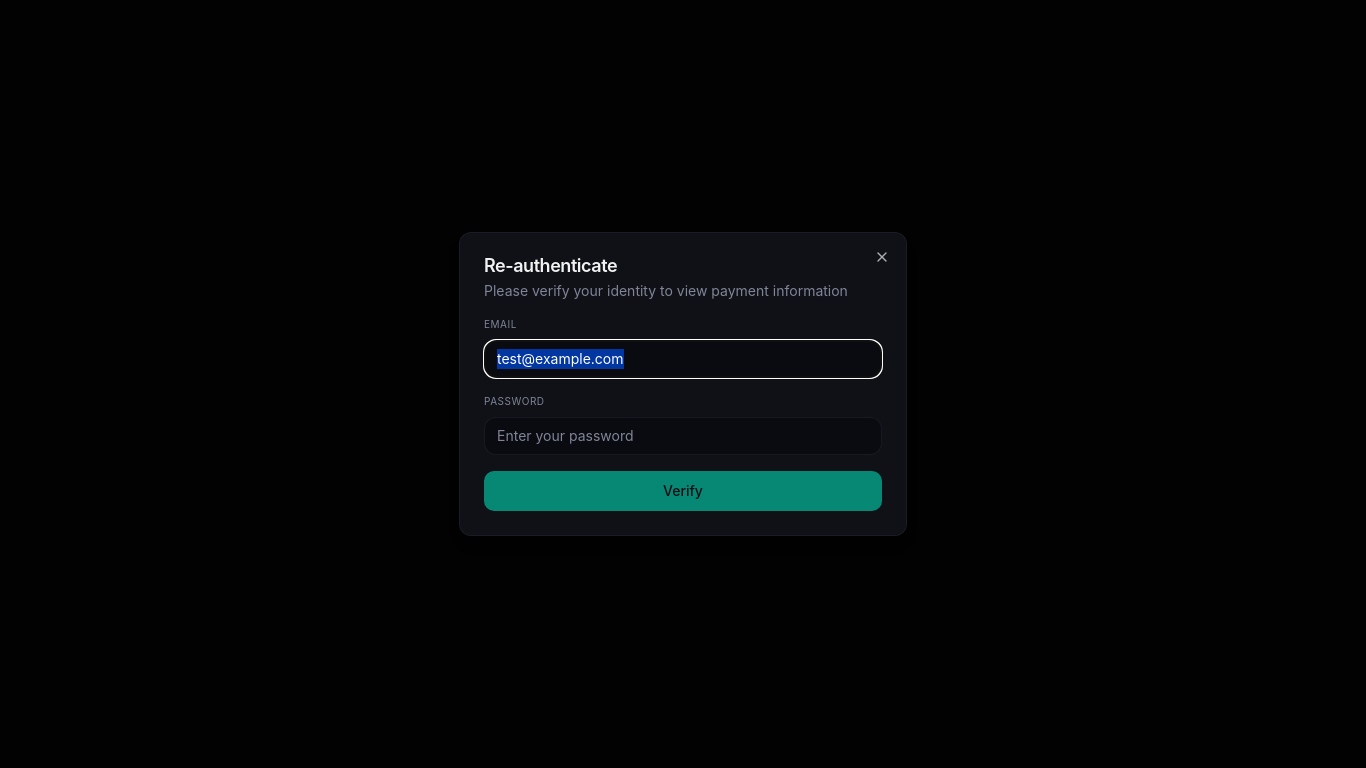
ReAuthModal › disables submit button while loading
The width and height of the screenshot is (1366, 768).
Step 1. Type "password123" into the password field with placeholder "Enter your password" → (683, 436), box [484,417,882,455]
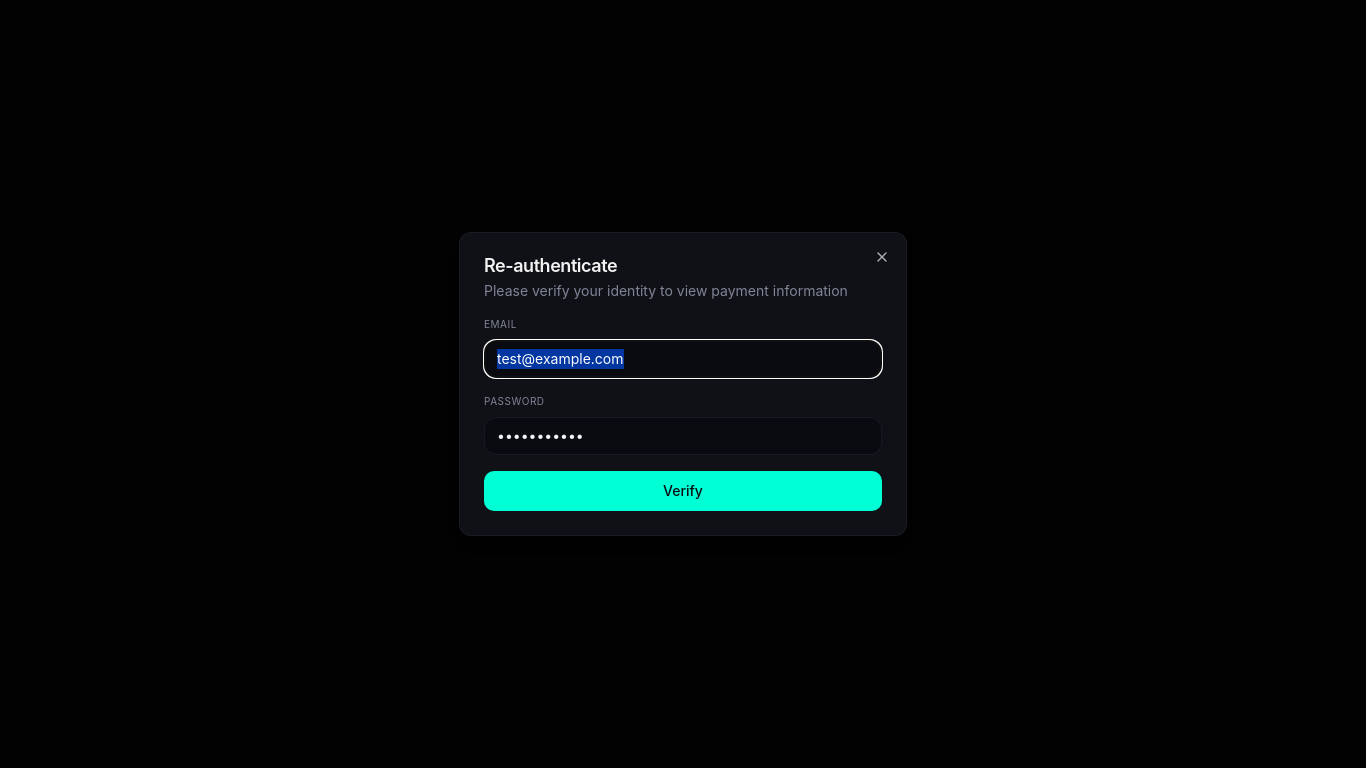
Step 2. Click the button "Verify" → click(683, 491), box [484,471,882,511]
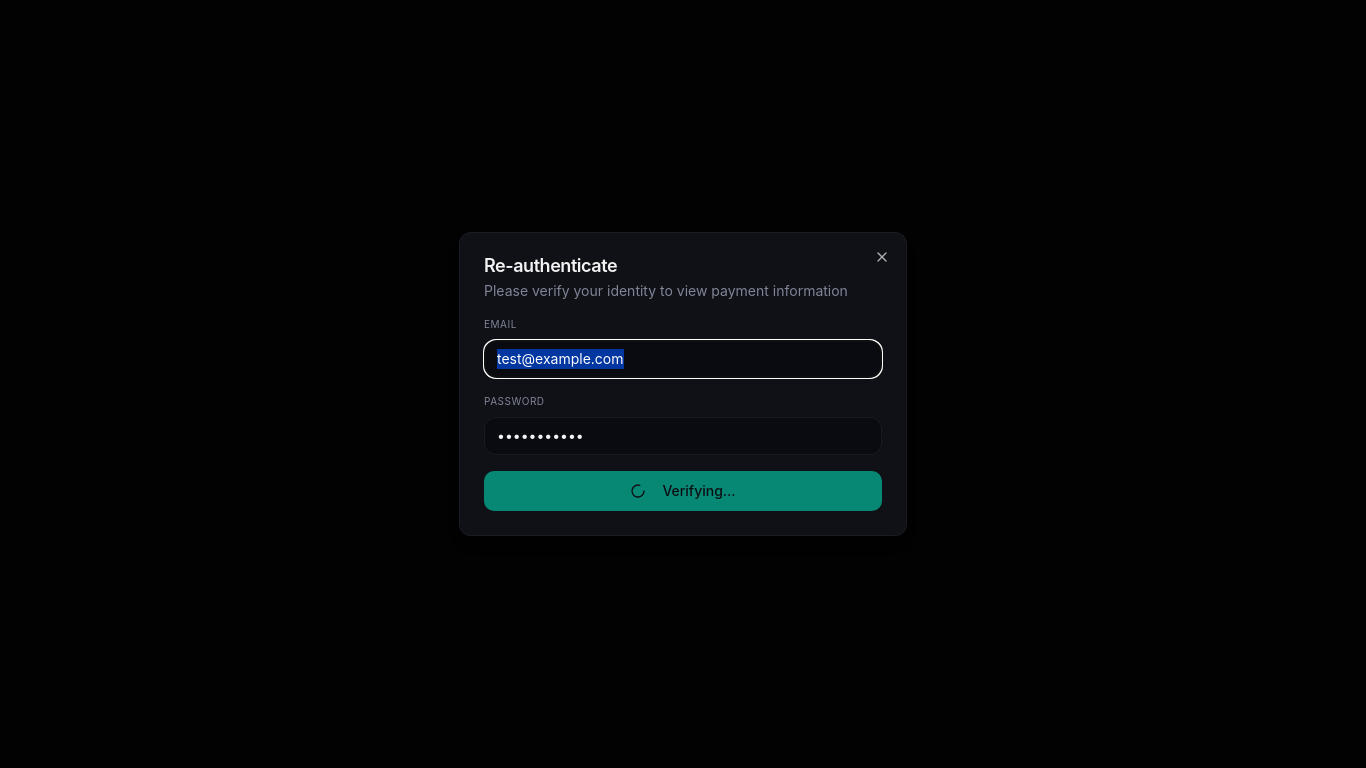
Check: the button "Verifying..." is disabled, box [484,471,882,511]
